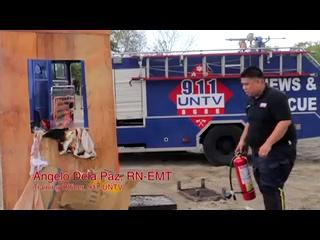Fire: (37, 104, 76, 132)
